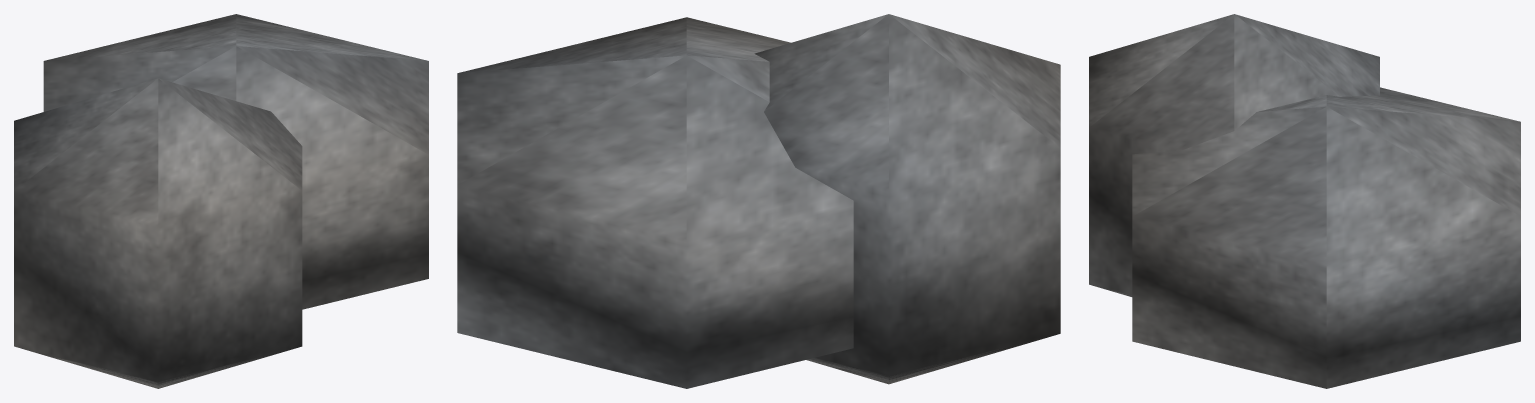
The model's file is cushion_l1.gltf.
3 views of the same model, side by side, from view 1: azimuth 30°, elevation 25°; view 2: azimuth 150°, elevation 25°; view 3: azimuth 270°, elevation 25° (orthographic). The views are drawn at different scales.
Visible parts, largest first — view 1: cushion_l1; view 2: cushion_l1; view 3: cushion_l1.
Boxes of the visible parts, bbox=[...] form: cushion_l1: bbox=[14, 14, 428, 388]; cushion_l1: bbox=[457, 14, 1060, 388]; cushion_l1: bbox=[1089, 14, 1520, 388].
Size of the model in its own units: 1.09 by 0.7035 by 0.8786.
Materials: 1 (1 with a texture image).
